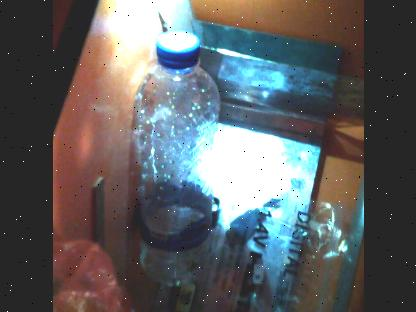Plastic Bottle: (127, 20, 219, 292)
